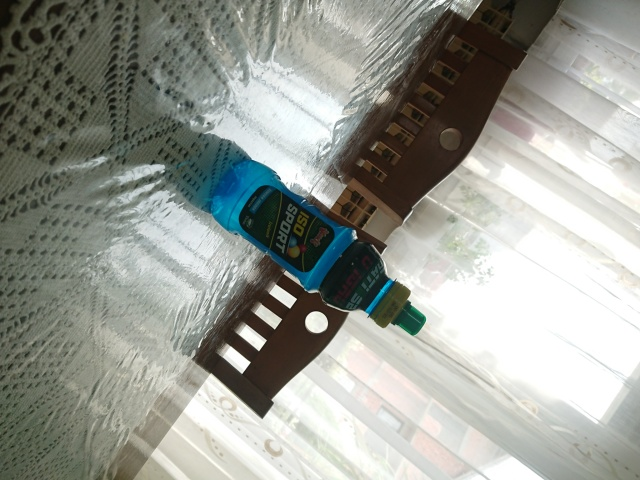Vindi Iso Sport Forest Strawberries 500mL: (208, 158, 429, 337)
